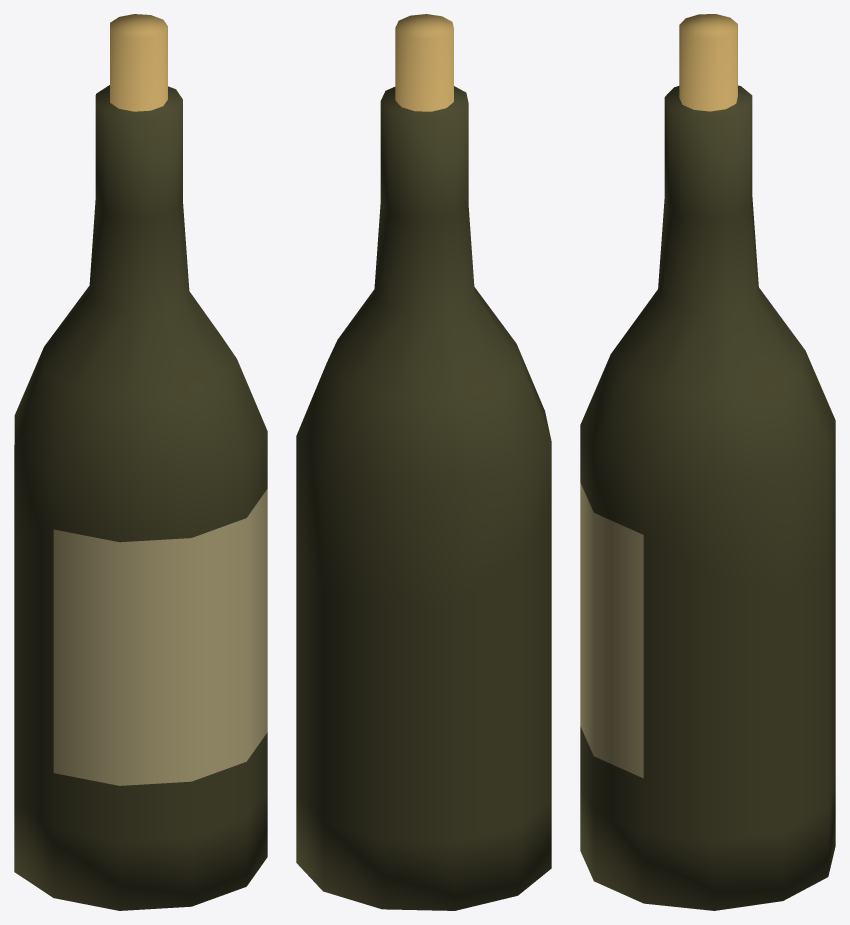
Rendered from WineBottle.fbx.
The picture shows the model from 3 angles, left to right: view 1: azimuth 30°, elevation 25°; view 2: azimuth 150°, elevation 25°; view 3: azimuth 270°, elevation 25°; orthographic projection.
Parts seen in each view (by area): view 1: Cylinder; view 2: Cylinder; view 3: Cylinder.
Boxes of the visible parts, x1,y1,x2,y2 form: Cylinder: [14, 14, 267, 910]; Cylinder: [296, 14, 551, 910]; Cylinder: [580, 14, 835, 910].
Bounding box in the file's own units: 13.19 × 47.55 × 13.24.
